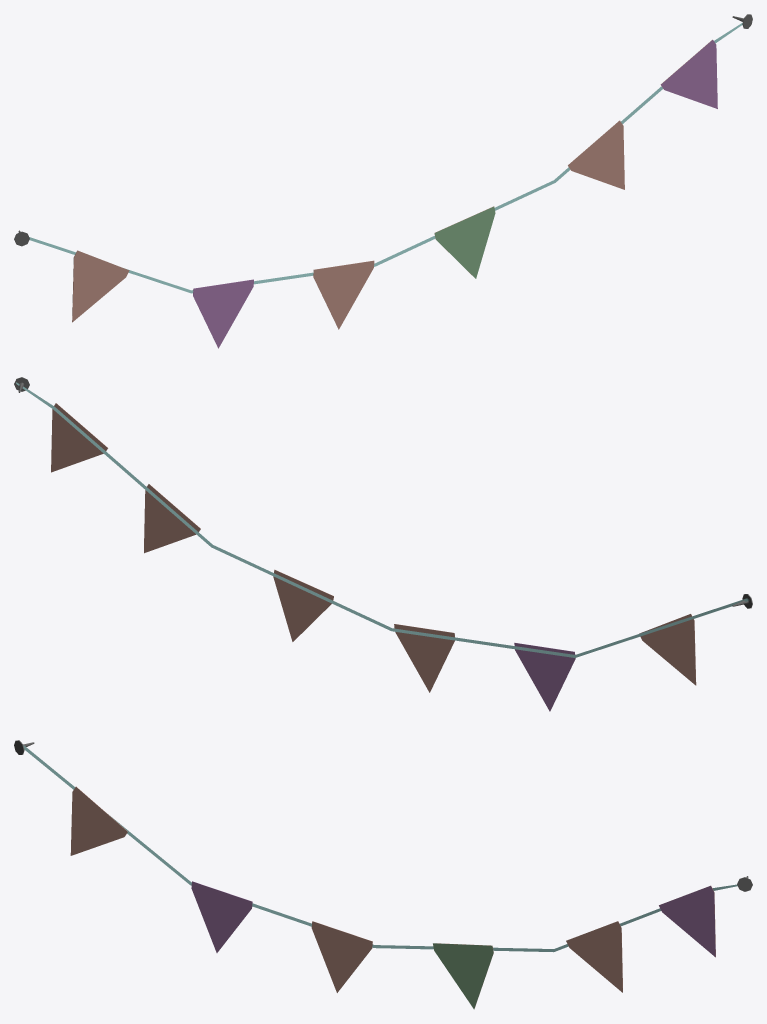
The model's file is party_line.fbx.
3 views of the same model, one above another, from view 1: azimuth 30°, elevation 25°; view 2: azimuth 150°, elevation 25°; view 3: azimuth 330°, elevation 25° (orthographic).
Parts seen in each view (by area): view 1: pPlane4, pPlane2, pPlane3, pPlane7, pPlane5, pPlane6, clothesline; view 2: clothesline, pPlane4, pPlane3, pPlane2, pPlane5, pPlane7, pPlane6; view 3: pPlane5, pPlane3, pPlane2, pPlane7, pPlane6, pPlane4, clothesline.
Part boxes in pixels (box(x1,y1,x2,y2)): pPlane4: box(72, 250, 129, 322); pPlane2: box(313, 260, 374, 329); pPlane3: box(193, 279, 253, 348); pPlane7: box(660, 39, 717, 108); pPlane5: box(434, 206, 495, 278); pPlane6: box(568, 120, 624, 189); clothesline: box(29, 23, 742, 293); clothesline: box(16, 382, 748, 657); pPlane4: box(639, 614, 696, 685); pPlane3: box(514, 642, 575, 711); pPlane2: box(394, 624, 454, 692); pPlane5: box(273, 569, 333, 641); pPlane7: box(51, 403, 107, 472); pPlane6: box(144, 484, 200, 553); pPlane5: box(433, 943, 493, 1009); pPlane3: box(191, 881, 252, 952); pPlane2: box(311, 921, 372, 992); pPlane7: box(659, 885, 715, 957); pPlane6: box(566, 921, 622, 992); pPlane4: box(70, 786, 127, 855); clothesline: box(23, 745, 737, 952).
Size of the model in its own units: 192 by 53.67 by 4.86.
